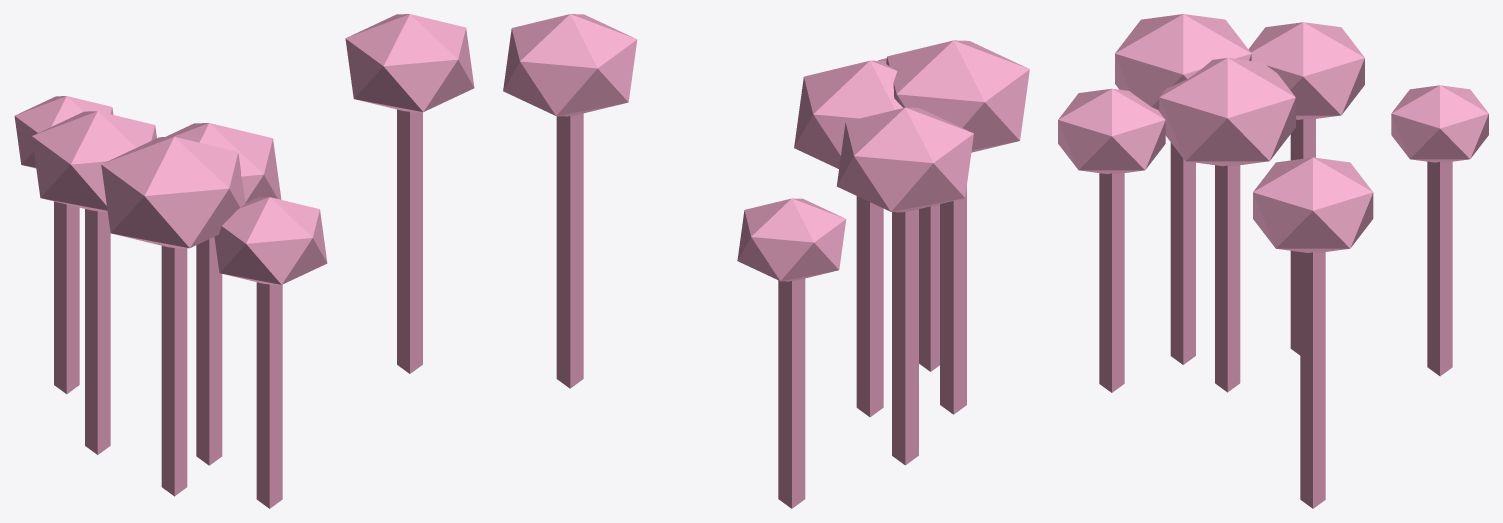
The model's file is flower_pink.glb.
3 views of the same model, side by side, from view 1: azimuth 30°, elevation 25°; view 2: azimuth 150°, elevation 25°; view 3: azimuth 270°, elevation 25° (orthographic). The views are drawn at different scales.
Visible parts, largest first — view 1: flower_pink; view 2: flower_pink; view 3: flower_pink.
Part boxes in pixels (x1=…): flower_pink: x1=14, y1=14, x2=474, y2=508; flower_pink: x1=503, y1=14, x2=1029, y2=508; flower_pink: x1=1058, y1=14, x2=1488, y2=508.
Size of the model in its own units: 0.499 by 0.3917 by 0.4429.
